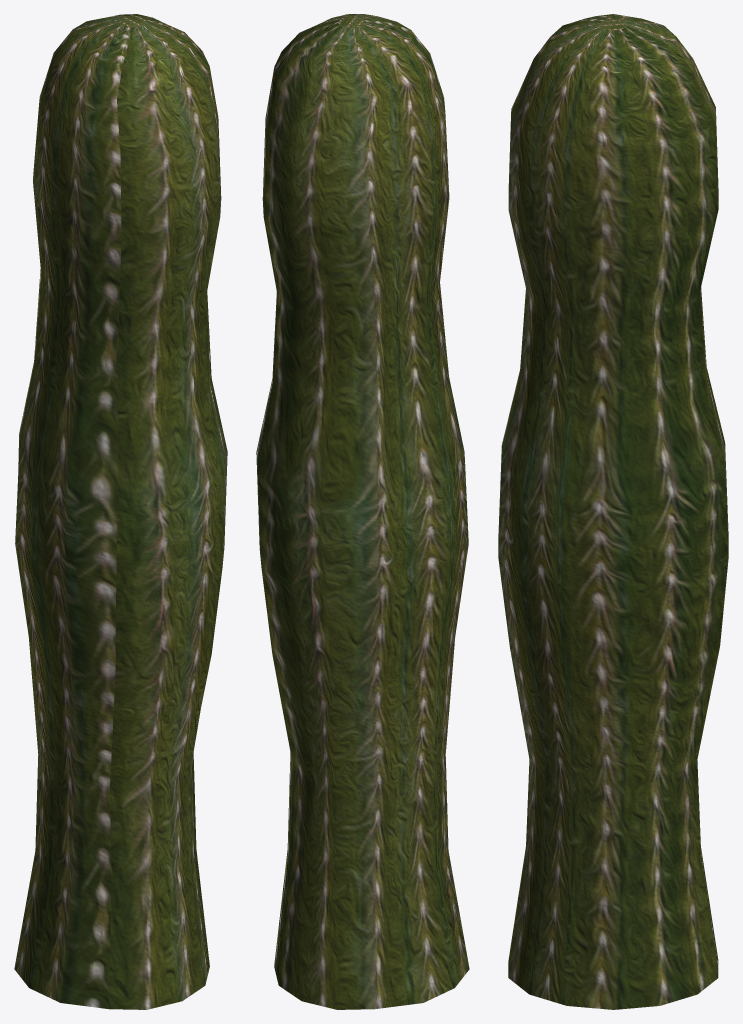
The model's file is Straight_Cactus_Medium.FBX.
3 views of the same model, side by side, from view 1: azimuth 30°, elevation 25°; view 2: azimuth 150°, elevation 25°; view 3: azimuth 270°, elevation 25° (orthographic).
Visible parts, largest first — view 1: Straight_Cactus_Medium; view 2: Straight_Cactus_Medium; view 3: Straight_Cactus_Medium.
Part boxes in pixels (<box>): Straight_Cactus_Medium: <box>14,14,227,1009</box>; Straight_Cactus_Medium: <box>256,14,469,1009</box>; Straight_Cactus_Medium: <box>498,14,728,1009</box>.
Bounding box in the file's own units: 20.39 × 100 × 21.92.
